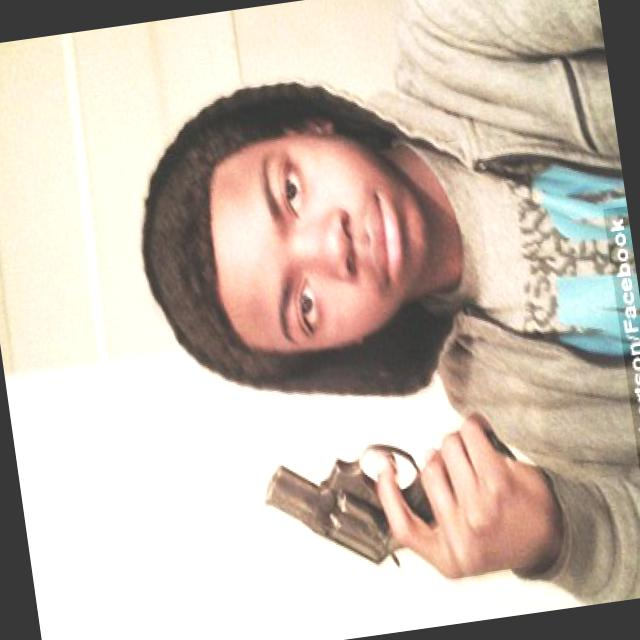handgun: (256, 418, 524, 580)
